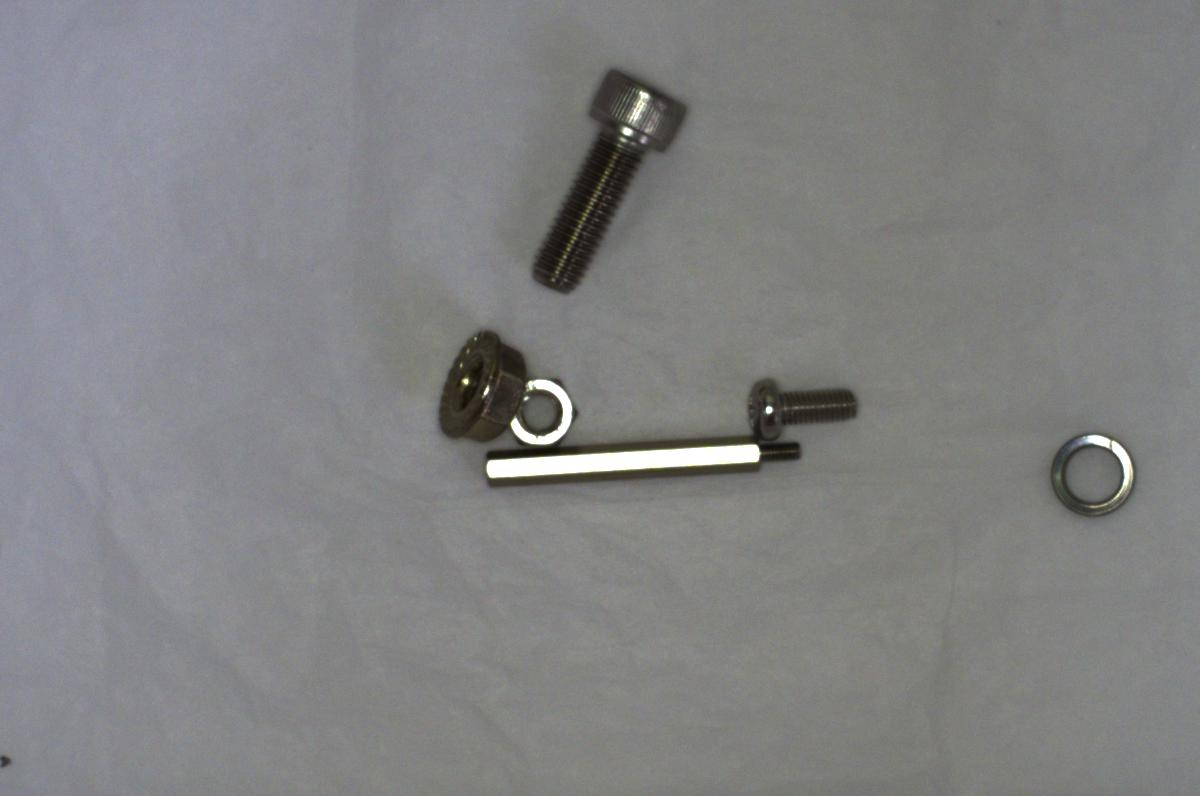Flange nut: (420, 322, 531, 441)
Hexagon nut: (507, 372, 582, 447)
Hexagon screw: (515, 61, 705, 296)
Hexagonal steel column: (481, 427, 810, 492)
Round head screw: (732, 367, 864, 445)
Spring washer: (1044, 415, 1144, 521)
